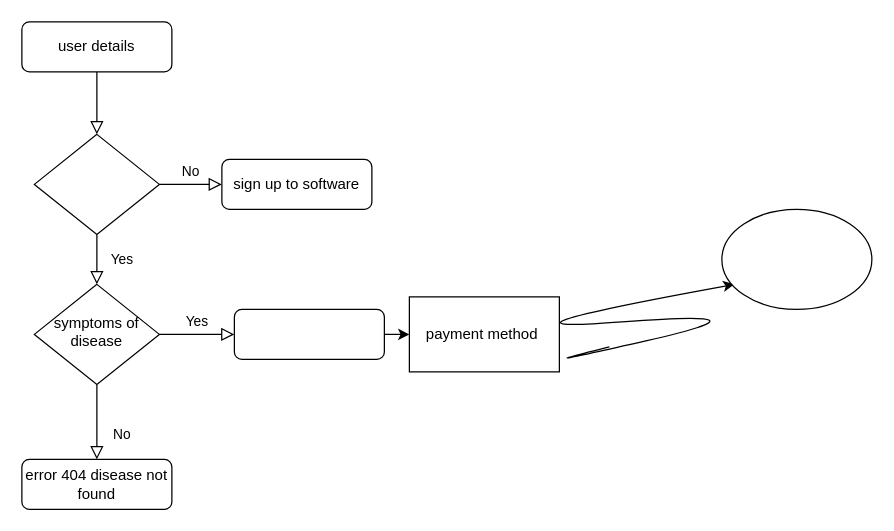
This 894x531 diagram has some shape labels left out. The shapes that lost their labels are listed below. From the top down, each one's box as (x1, y1, x2, y2) in pixels, then its label:
(33, 133, 159, 234): login to software
(721, 208, 872, 309): log out
(233, 308, 384, 359): proper medication
